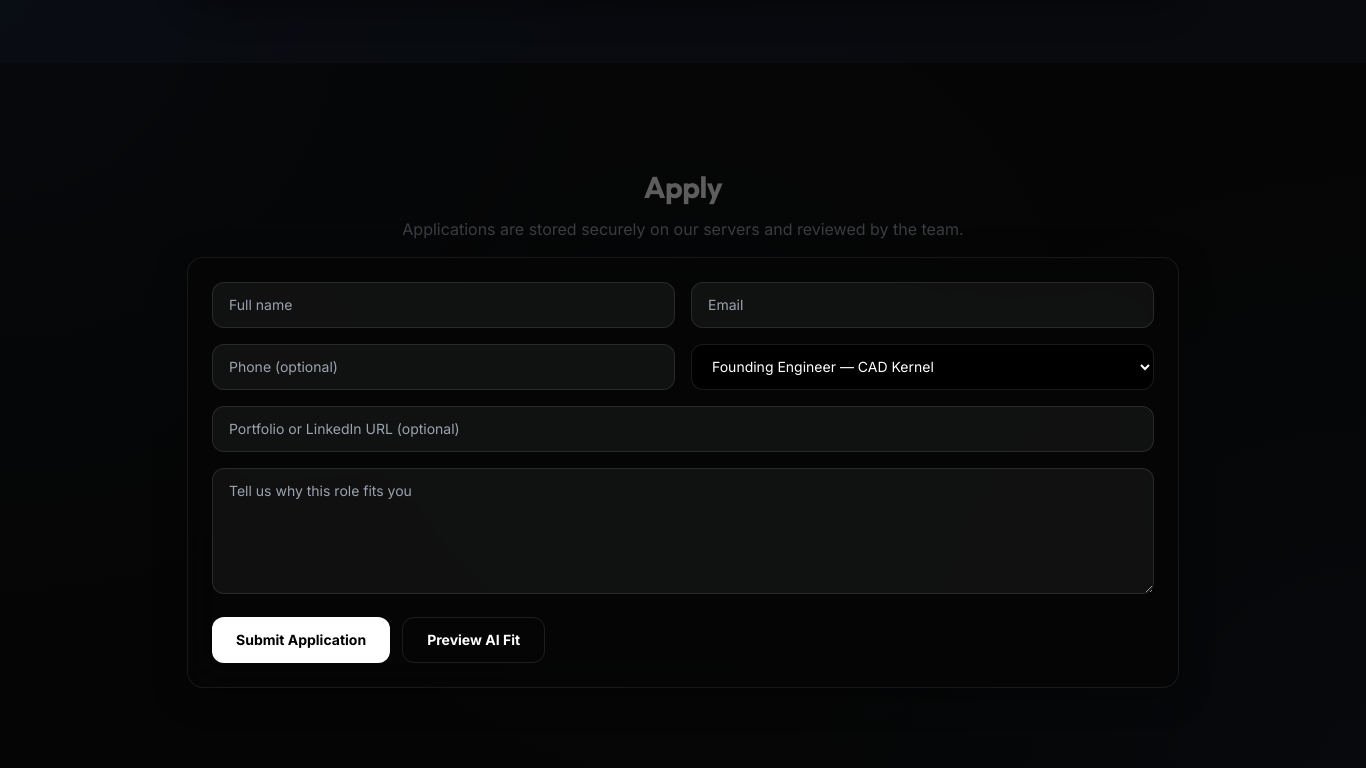
Test: Careers › validates form submission
(page scrolled)
Click the button "Submit Application" at (301, 640), box 212,617 -> 390,663
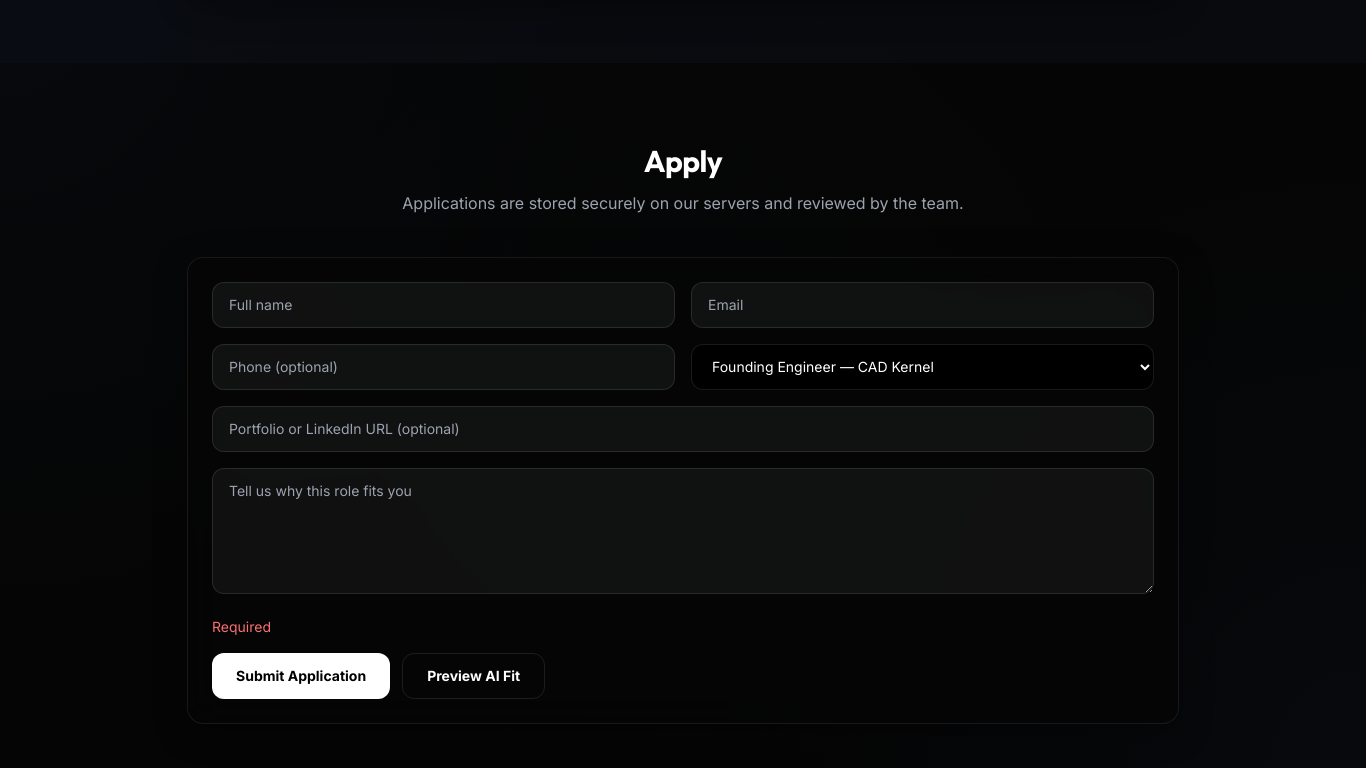
expect the text "Required" is shown: met, box 212,618 -> 271,635
